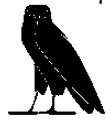Owl: (9, 4, 105, 121)
